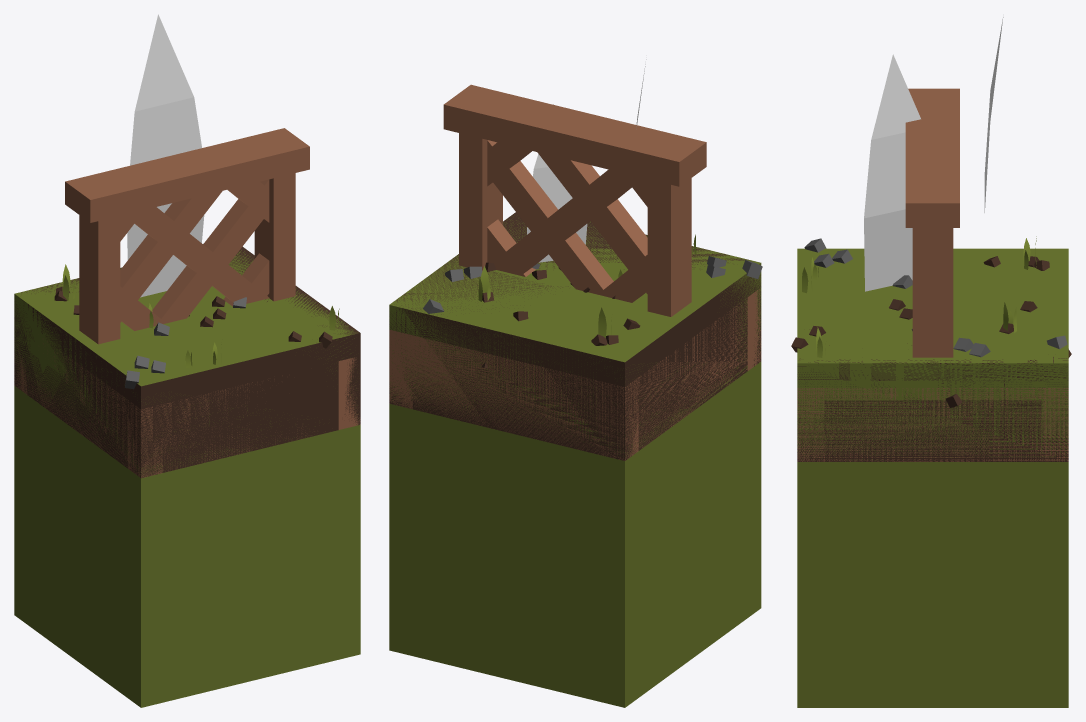
The model's file is GameAssets.glb.
The picture shows the model from 3 angles, left to right: view 1: azimuth 30°, elevation 25°; view 2: azimuth 150°, elevation 25°; view 3: azimuth 270°, elevation 25°; orthographic projection. The views are drawn at different scales.
Visible parts, largest first — view 1: Gound Cube, Shade Solo, Block Ground 1, Block Grass 1, Raised Bed I, Grass 1, Raised Bed O, Block Ground 2; view 2: Gound Cube, Shade Solo, Block Ground 1, Block Grass 1, Raised Bed O, Block Ground 2, Grass 1, Raised Bed L; view 3: Gound Cube, Block Grass 1, Shade Solo, Block Ground 1, Raised Bed O, Grass 1, Raised Bed L, Raised Bed U, Block Ground 2.
Boxes of the visible parts, x1,y1,x2,y2 form: Gound Cube: (14, 386, 360, 707); Shade Solo: (65, 128, 309, 344); Block Ground 1: (14, 246, 360, 478); Block Grass 1: (14, 250, 358, 475); Raised Bed I: (163, 373, 338, 472); Grass 1: (127, 14, 204, 297); Raised Bed O: (14, 338, 360, 477); Block Ground 2: (54, 243, 301, 373); Gound Cube: (389, 362, 761, 707); Shade Solo: (443, 84, 706, 316); Block Ground 1: (389, 212, 762, 460); Block Grass 1: (389, 218, 761, 456); Raised Bed O: (389, 289, 761, 460); Block Ground 2: (423, 256, 726, 345); Grass 1: (527, 59, 646, 262); Raised Bed L: (414, 393, 601, 454); Gound Cube: (797, 462, 1068, 707); Block Grass 1: (797, 236, 1068, 461); Shade Solo: (905, 88, 959, 357); Block Ground 1: (791, 238, 1068, 461); Raised Bed O: (797, 388, 1068, 461); Grass 1: (864, 17, 1003, 291); Raised Bed L: (824, 393, 1041, 461); Raised Bed U: (824, 400, 1041, 461); Block Ground 2: (809, 249, 1067, 357).
Bounding box in the file's own units: 1.06 × 2.59 × 1.03.
